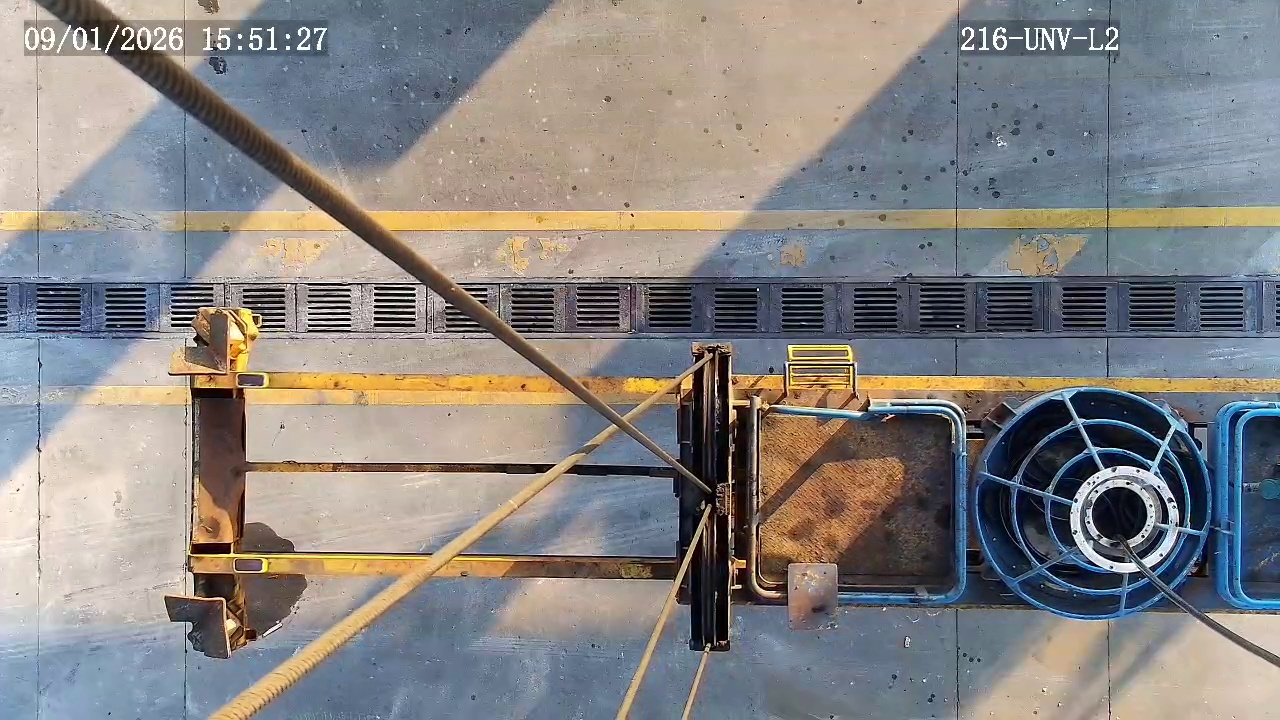left: (974, 388, 1215, 620)
